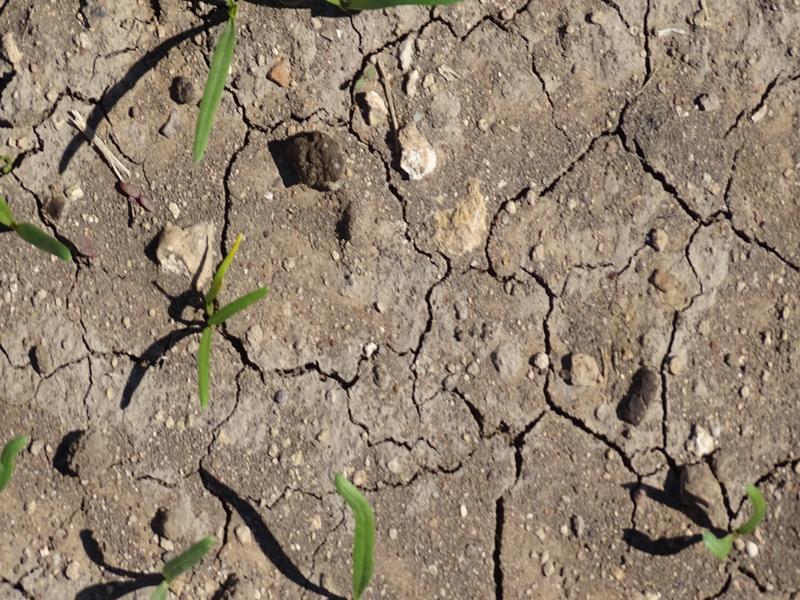Espinaca: (188, 249, 263, 391), (329, 472, 384, 591), (710, 489, 764, 567), (201, 27, 233, 156), (5, 209, 77, 266), (164, 528, 219, 591)
